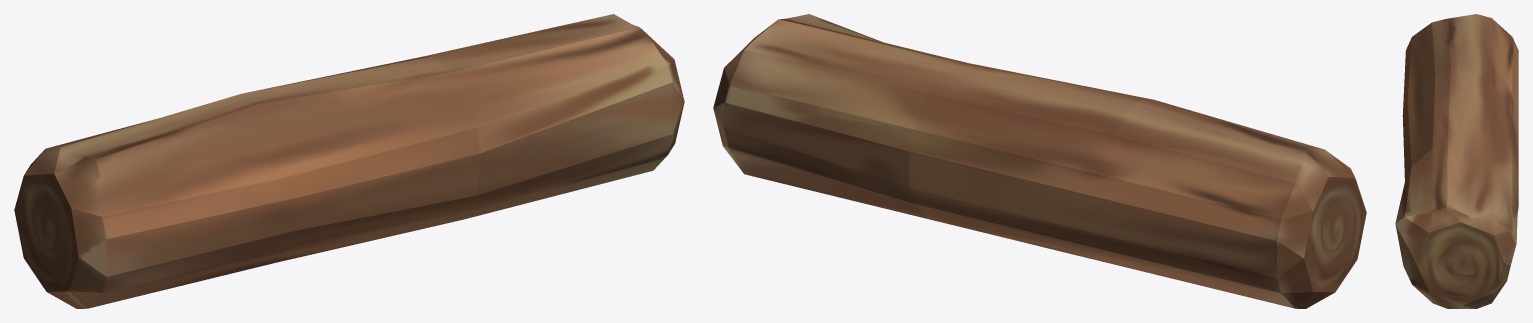
The model's file is wood-block-03.obj.
3 renders of one model, left to right at view 1: azimuth 30°, elevation 25°; view 2: azimuth 150°, elevation 25°; view 3: azimuth 270°, elevation 25°, orthographic. The views are drawn at different scales.
Visible parts, largest first — view 1: wood-block-03; view 2: wood-block-03; view 3: wood-block-03.
Part boxes in pixels (x1,y1,x2,y2): wood-block-03: (14,14,684,308); wood-block-03: (713,14,1366,308); wood-block-03: (1395,14,1518,308).
Size of the model in its own units: 2.07 by 0.5159 by 0.5162.
